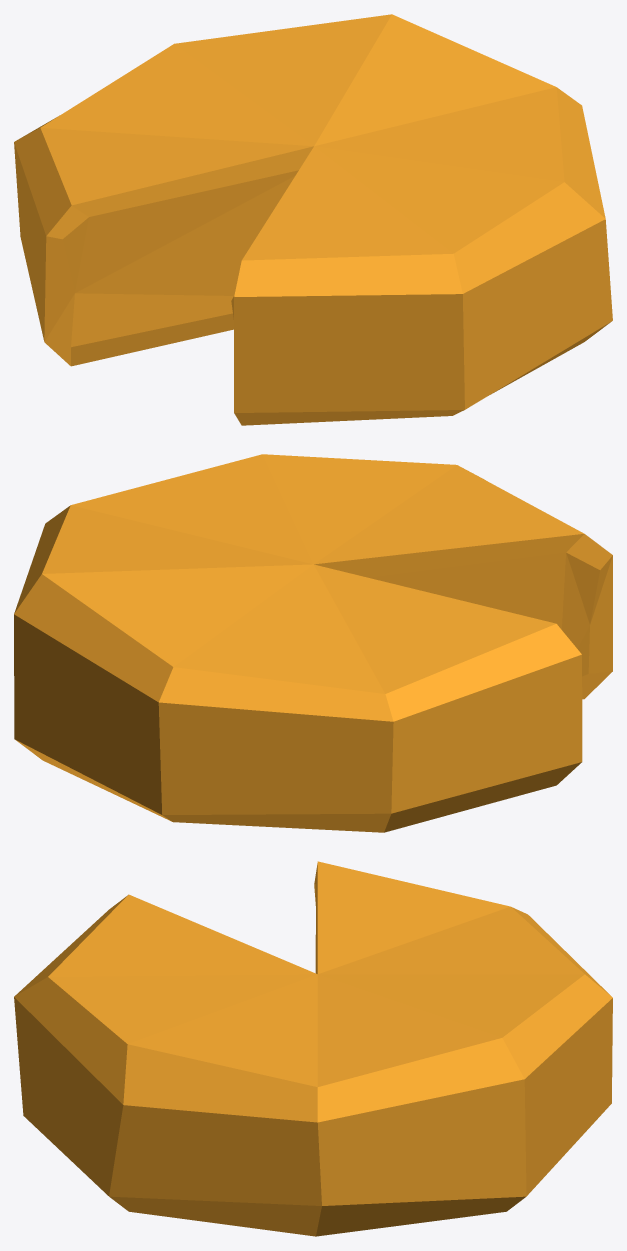
The model's file is SM_Brie_Cut.fbx.
The picture shows the model from 3 angles, top to bottom: view 1: azimuth 30°, elevation 25°; view 2: azimuth 150°, elevation 25°; view 3: azimuth 270°, elevation 25°; orthographic projection. The views are drawn at different scales.
Parts seen in each view (by area): view 1: brie-cut; view 2: brie-cut; view 3: brie-cut.
Boxes of the visible parts, x1=… form: brie-cut: x1=14, y1=14, x2=612, y2=425; brie-cut: x1=14, y1=454, x2=612, y2=832; brie-cut: x1=14, y1=861, x2=612, y2=1236.
Size of the model in its own units: 0.1202 by 0.0397 by 0.1217.
